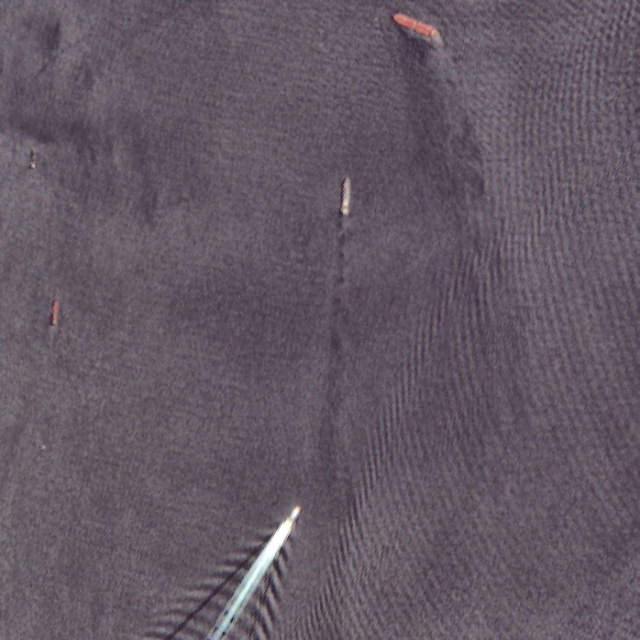wake: (197, 481, 335, 635)
